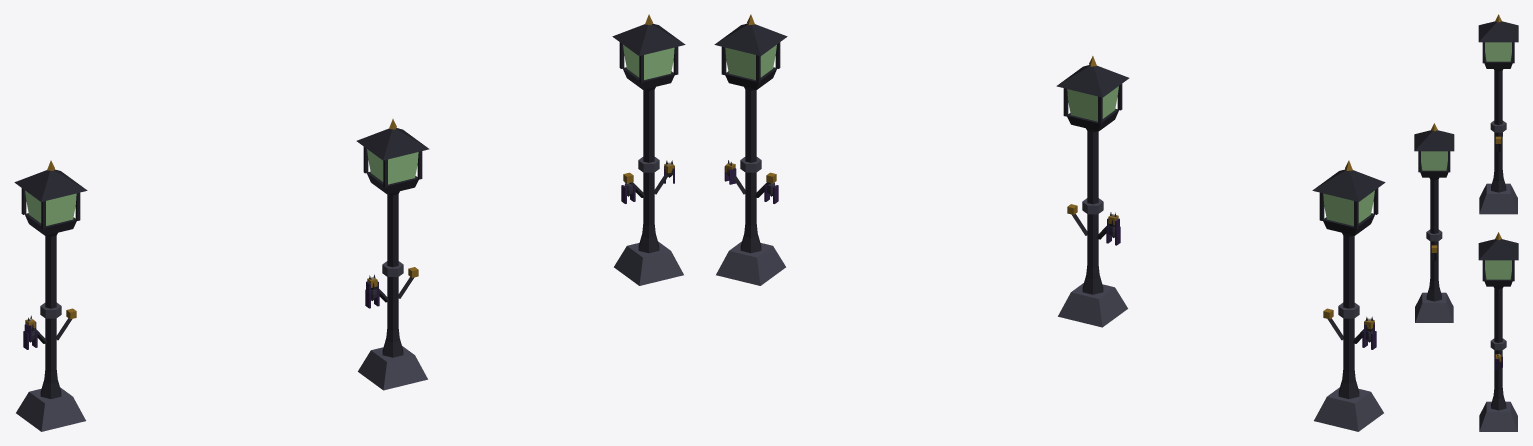
The model's file is Decor_VampireCrypt_Lamps.fbx.
The picture shows the model from 3 angles, left to right: view 1: azimuth 30°, elevation 25°; view 2: azimuth 150°, elevation 25°; view 3: azimuth 270°, elevation 25°; orthographic projection. The views are drawn at different scales.
Parts seen in each view (by area): view 1: Lamps_Body; view 2: Lamps_Body; view 3: Lamps_Body.
Part boxes in pixels (x1,y1,x2,y2): Lamps_Body: (14, 14, 685, 431); Lamps_Body: (714, 14, 1385, 431); Lamps_Body: (1414, 14, 1518, 431).
Bounding box in the file's own units: 34.4 × 13 × 6.4.
